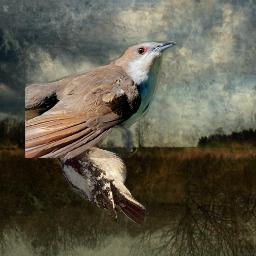Cuckoo: (25, 41, 176, 158)
Woodpecker: (53, 130, 146, 226)
